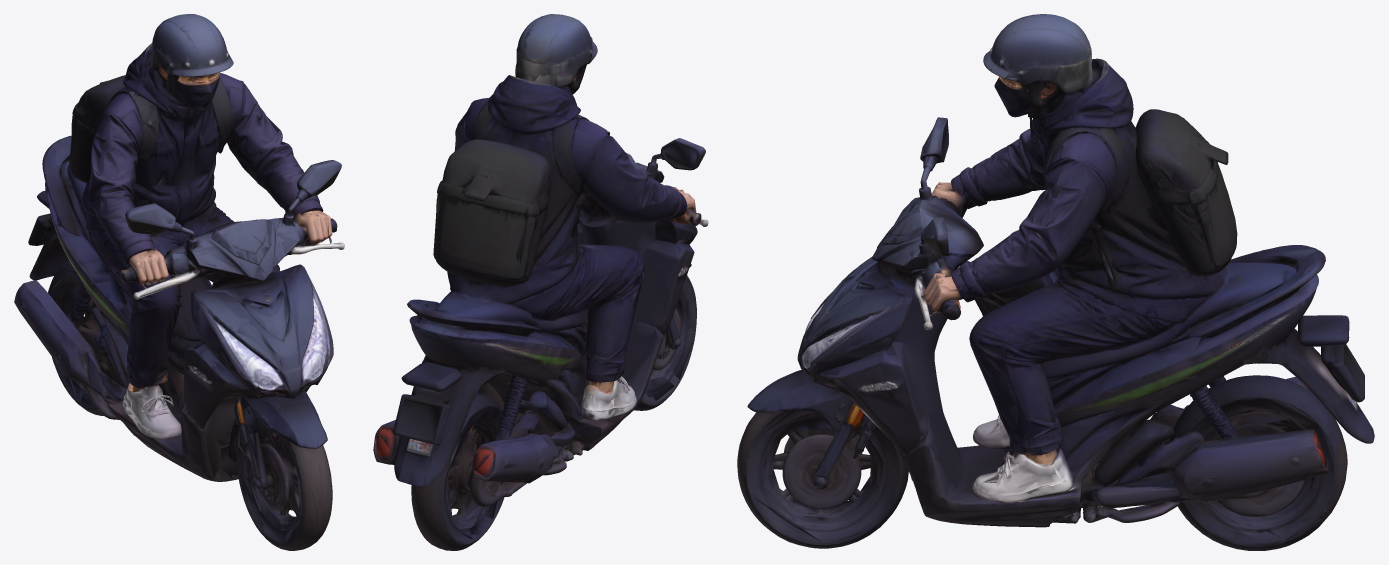
File: bike-rider.optimized.glb
The picture shows the model from 3 angles, left to right: view 1: azimuth 30°, elevation 25°; view 2: azimuth 150°, elevation 25°; view 3: azimuth 270°, elevation 25°; orthographic projection. The views are drawn at different scales.
Parts seen in each view (by area): view 1: Chassis (×2), Body, Head (×2), FrontWheel (×2); view 2: Chassis (×2), Body, Head (×2), FrontWheel; view 3: Chassis (×2), Body, Head (×2), FrontWheel (×2), RearWheel.
Boxes of the visible parts, x1,y1,x2,y2 form: Chassis (×2): (14,73,344,550); Body: (24,21,340,542); Head (×2): (105,14,243,128); FrontWheel (×2): (244,426,298,510); Chassis (×2): (373,97,708,550); Body: (376,20,702,539); Head (×2): (487,14,607,157); FrontWheel: (654,308,680,369); Chassis (×2): (737,109,1374,550); Body: (748,40,1370,547); Head (×2): (983,14,1133,164); FrontWheel (×2): (774,428,876,518); RearWheel: (1220,426,1303,515).
Size of the model in its own units: 0.4352 by 0.8889 by 0.97.
Materials: 1 (1 with a texture image).
